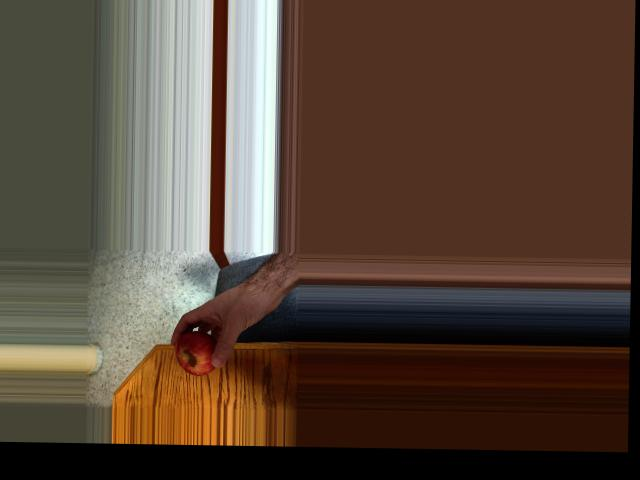apple: (174, 330, 224, 377)
